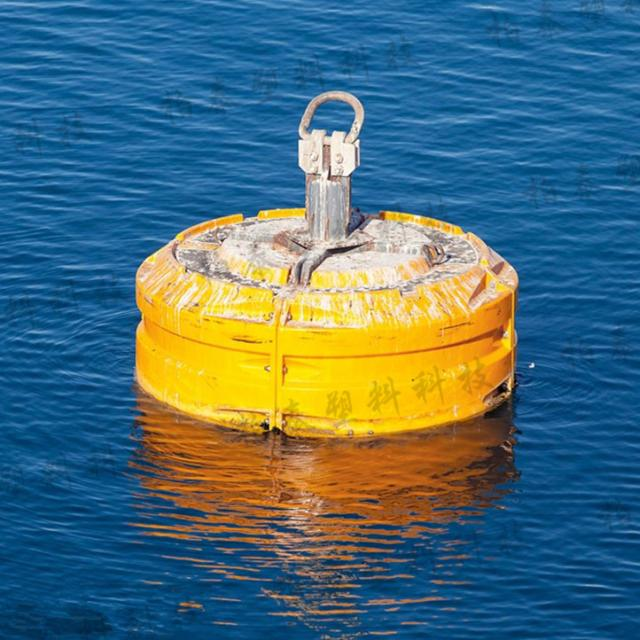buoy: (132, 86, 517, 442)
